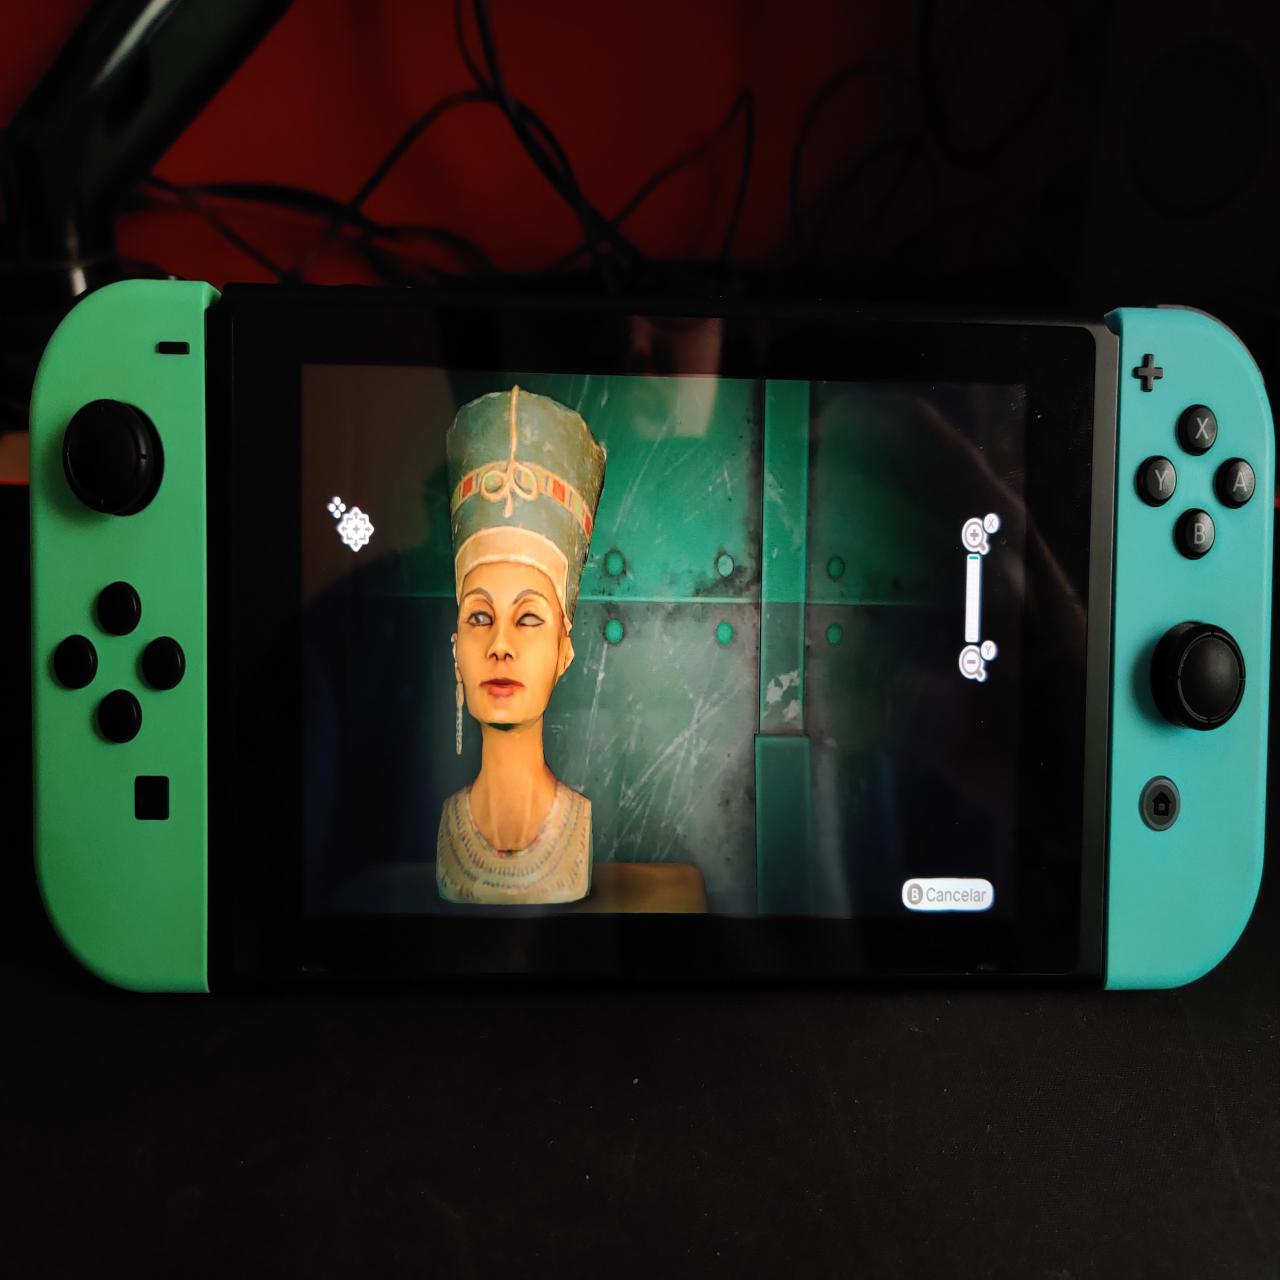NefertitiFake: (433, 382, 604, 907)
